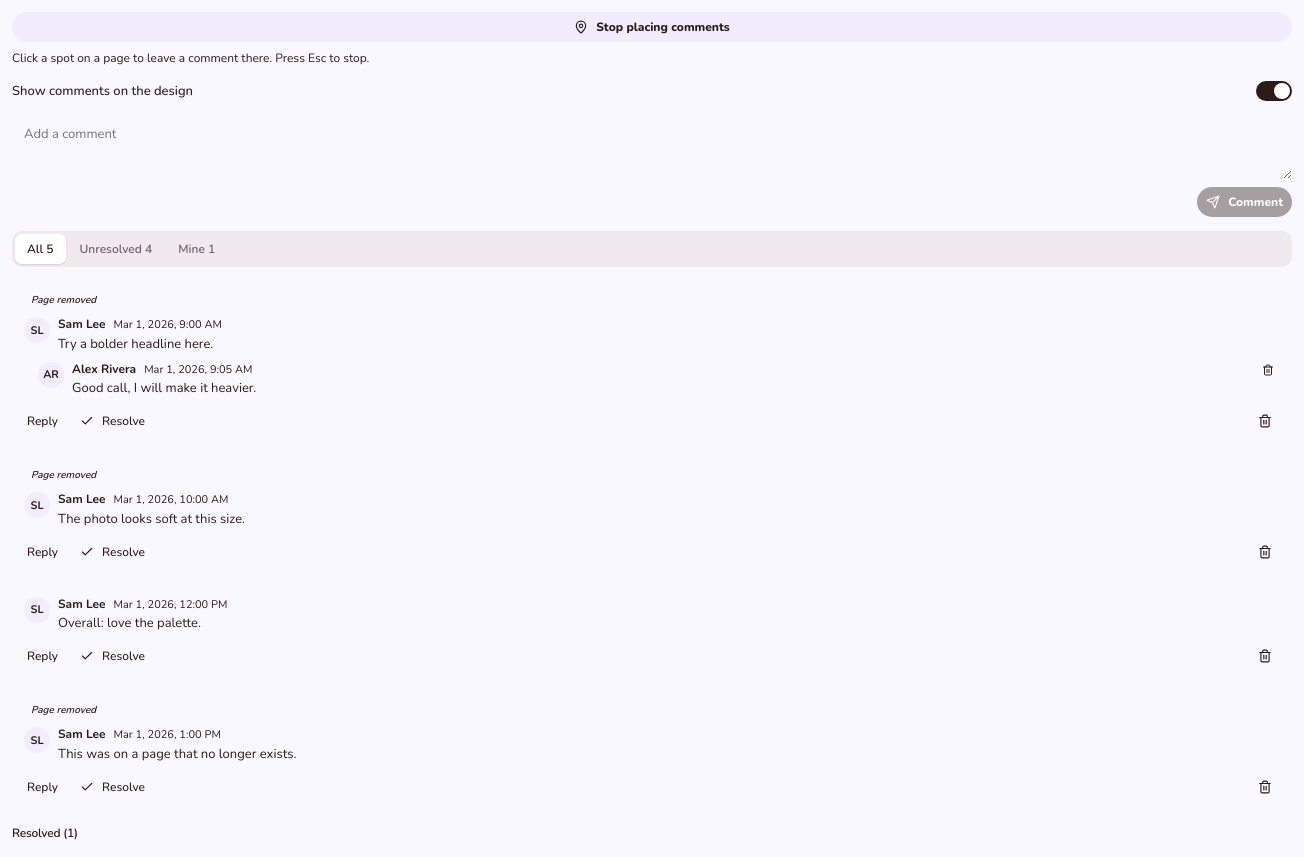
the Comments sidebar › posts a general comment with the page it was written on, reflects it at once and counts it
Type "One more thought" into the text box with test id "comment-new-text".
click(652, 147); type("One more thought")  # box [12,115,1292,179]
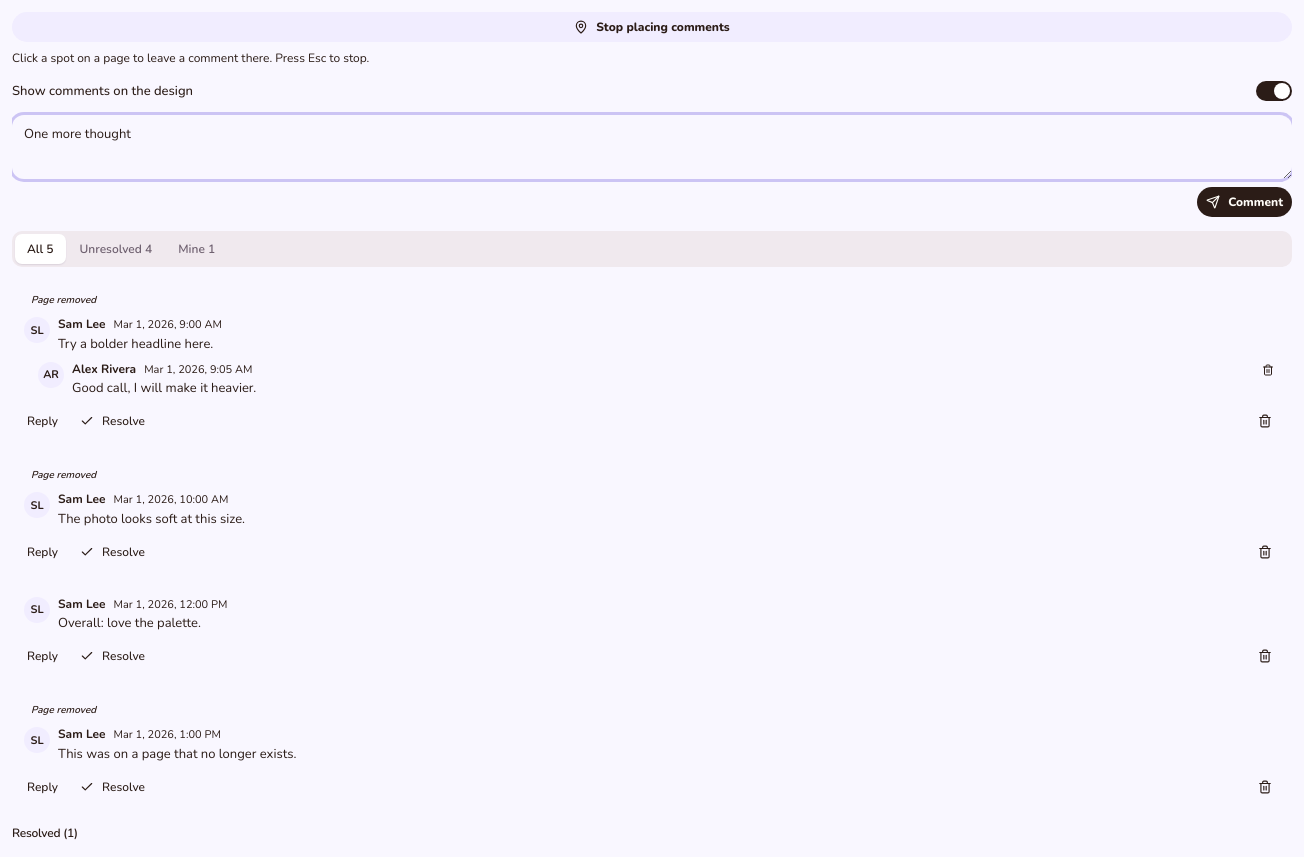
Click the button with test id "comment-new-send".
click(1245, 202)  # box [1197,187,1292,217]
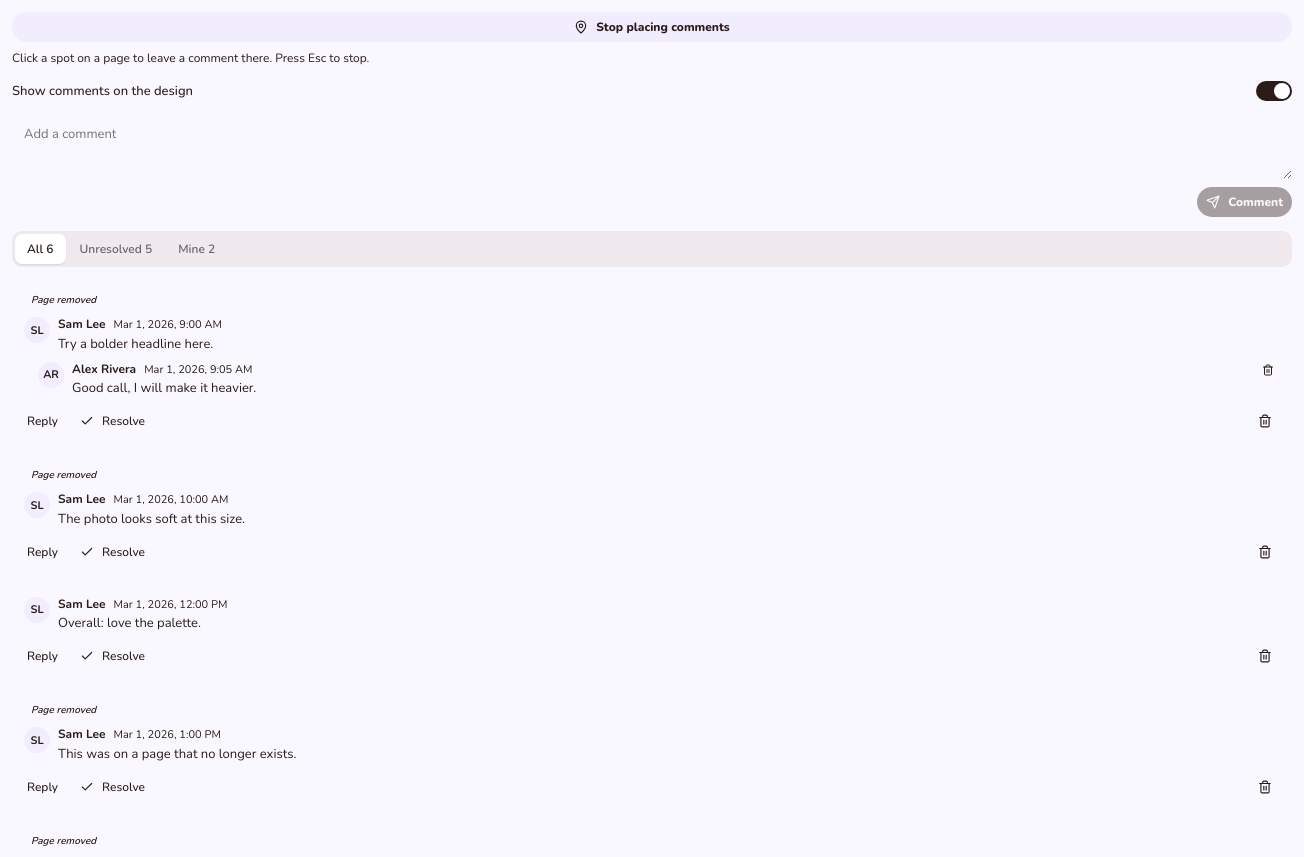
Result: the number of list items with test id "comment-thread" is 6
